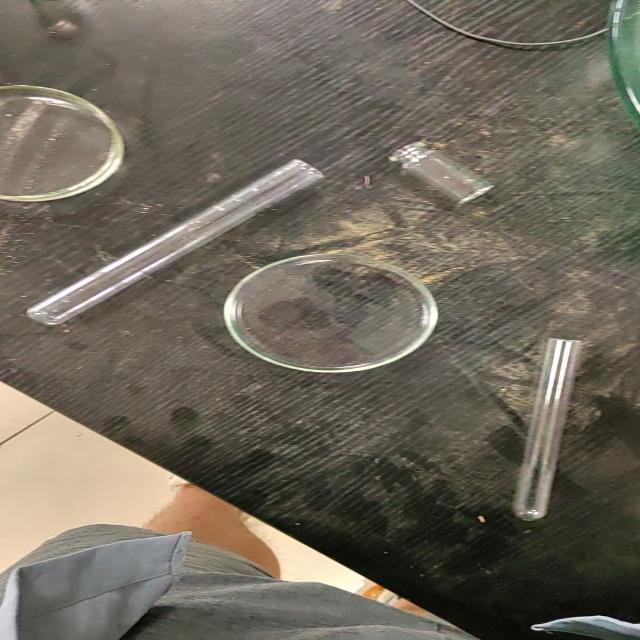cups: (222, 252, 438, 373), (0, 82, 125, 202), (510, 336, 584, 521), (387, 139, 494, 209)
